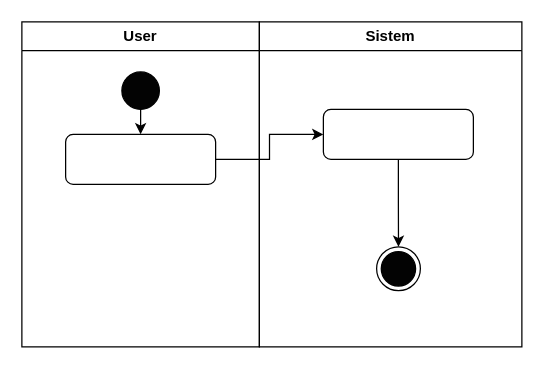
This 544x369 diagram has some shape labels left out. The shapes that lost their labels are listed below. From the top down, each one's centre as x and y in pixels, then its label:
At (x=397, y=133): "Menampilkan notifikasi".
At (x=140, y=158): "Membuka halaman notifikasi".
